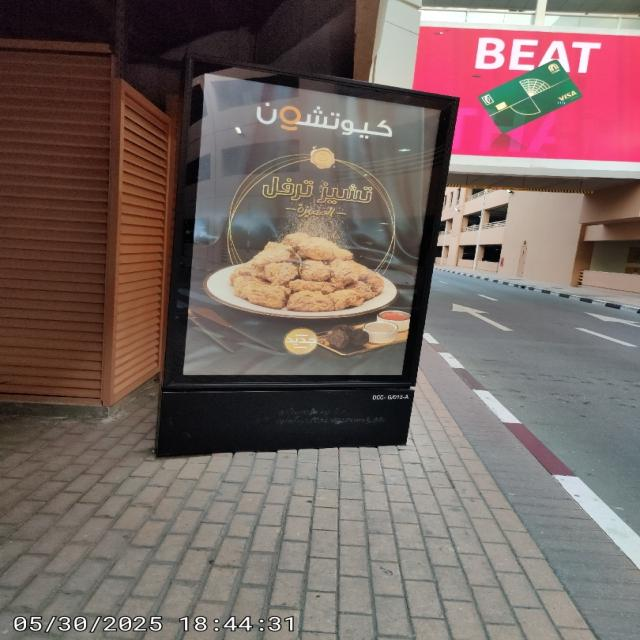mupi: (155, 52, 458, 456)
